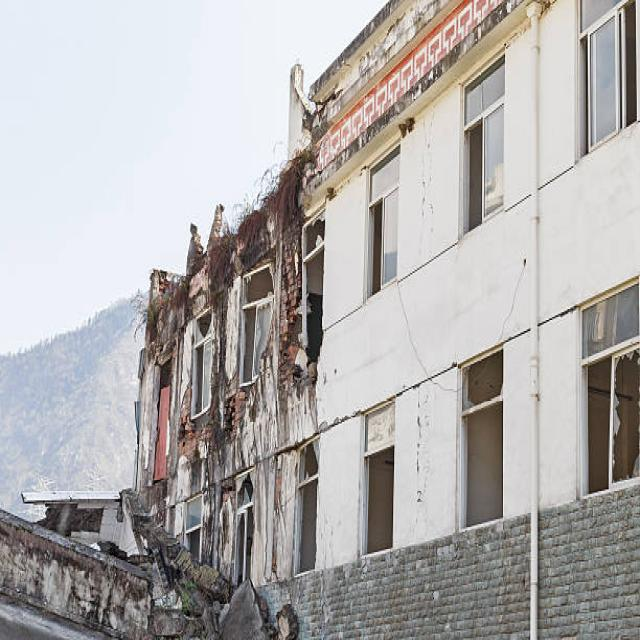Destroyed_building: (4, 0, 382, 640)
